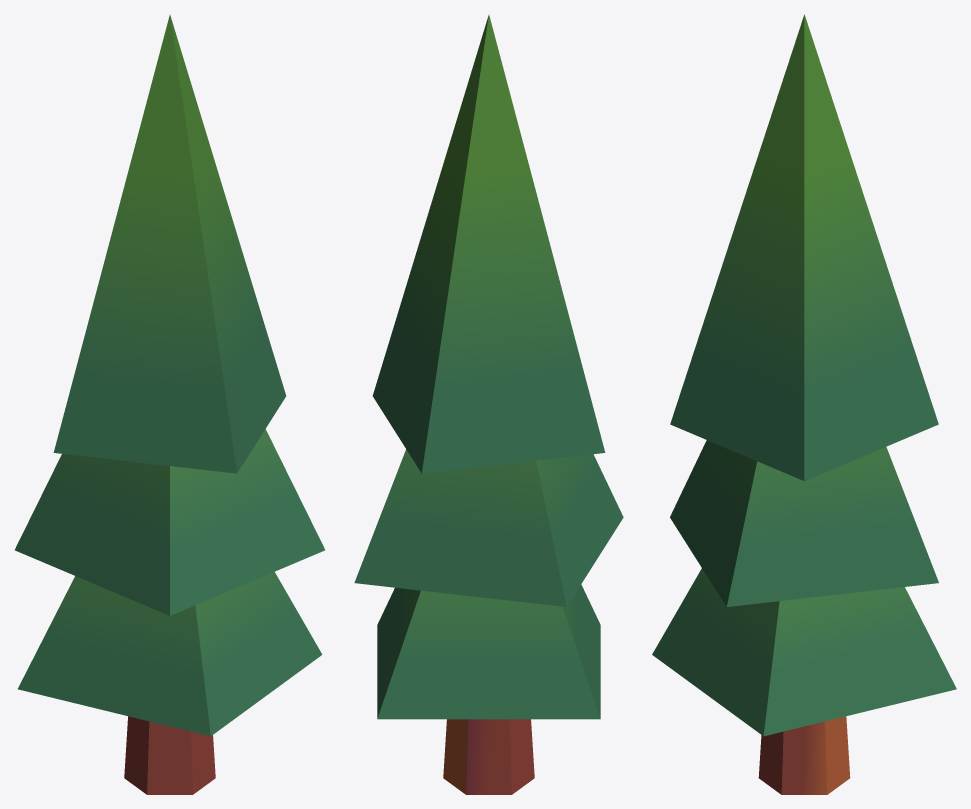
Rendered from tree1.glb.
3 renders of one model, left to right at view 1: azimuth 30°, elevation 25°; view 2: azimuth 150°, elevation 25°; view 3: azimuth 270°, elevation 25°, orthographic.
Parts seen in each view (by area): view 1: tree; view 2: tree; view 3: tree.
Part boxes in pixels (x1,y1,x2,y2): tree: (15,15,324,794); tree: (354,15,623,794); tree: (652,14,956,794).
Size of what is drawn, in the model's own units: 1.26 by 3.49 by 1.26.
1 material, 1 textured.
